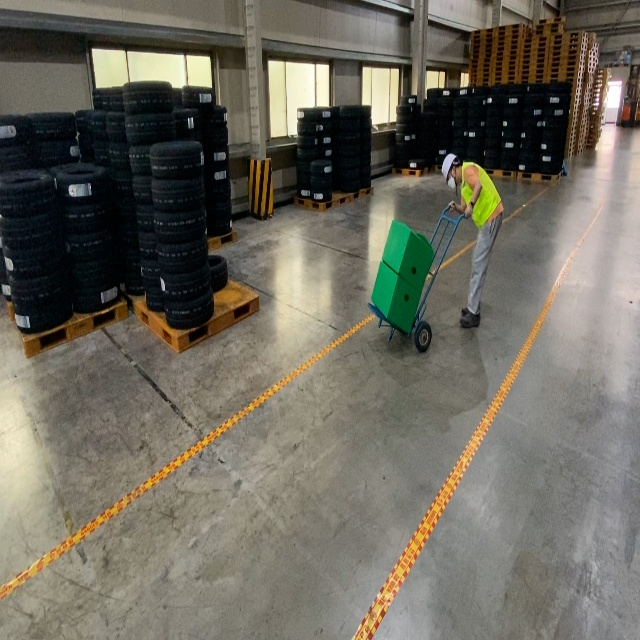Box: (371, 259, 422, 334), (381, 220, 434, 291)
Worker: (442, 153, 504, 327)
